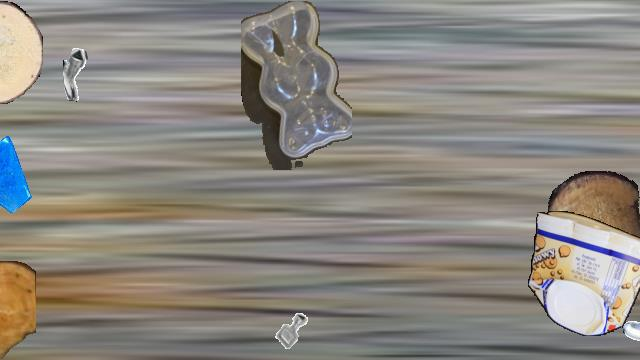glass: (0, 136, 32, 212)
metal: (63, 46, 119, 102), (267, 305, 317, 355), (622, 293, 640, 345)
plastic: (241, 1, 351, 169), (528, 211, 640, 335)
wood: (548, 171, 640, 275), (0, 1, 43, 103), (0, 261, 35, 359)
